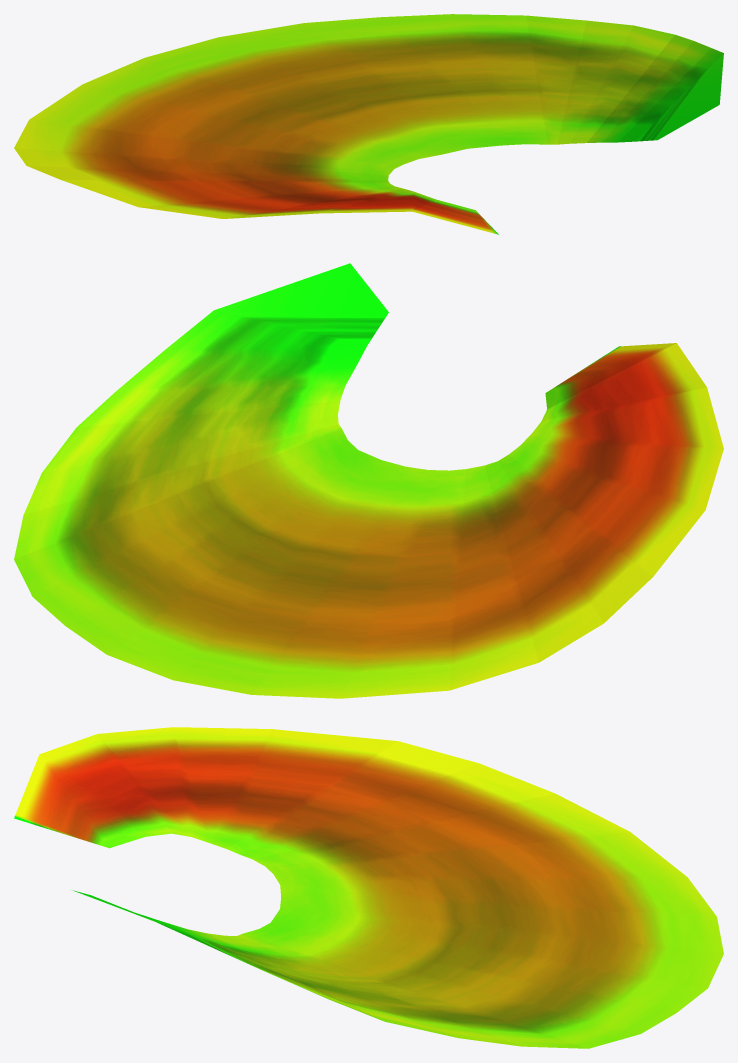
File: SLASH_HEAVY_L.fbx
3 renders of one model, top to bottom at view 1: azimuth 30°, elevation 25°; view 2: azimuth 150°, elevation 25°; view 3: azimuth 270°, elevation 25°, orthographic. The views are drawn at different scales.
Visible parts, largest first — view 1: MeshBaker_mesh_mesh; view 2: MeshBaker_mesh_mesh; view 3: MeshBaker_mesh_mesh.
Part boxes in pixels (x1,y1,x2,y2): MeshBaker_mesh_mesh: [14, 14, 723, 234]; MeshBaker_mesh_mesh: [14, 263, 723, 698]; MeshBaker_mesh_mesh: [14, 727, 723, 1048].
Size of the model in its own units: 838 by 191 by 890.
Materials: 1 (1 with a texture image).
